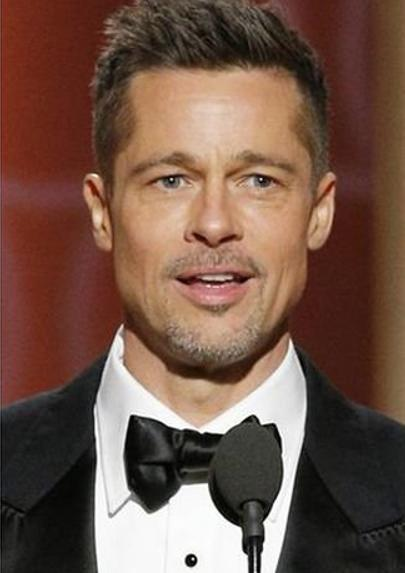Sober: (128, 79, 295, 356)
